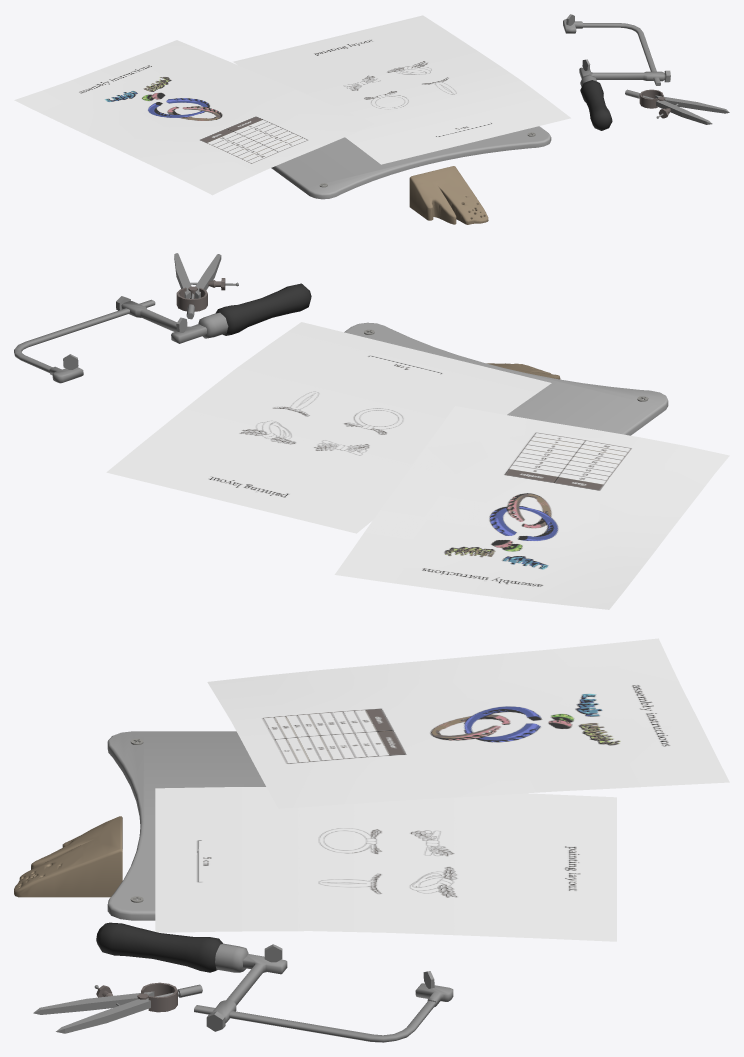
File: workbench-misc-processed.glb
The picture shows the model from 3 angles, top to bottom: view 1: azimuth 30°, elevation 25°; view 2: azimuth 150°, elevation 25°; view 3: azimuth 270°, elevation 25°; orthographic projection. The views are drawn at different scales.
Parts seen in each view (by area): view 1: obj.001; view 2: obj.001; view 3: obj.001.
Part boxes in pixels (x1=…): obj.001: x1=14, y1=14, x2=729, y2=224; obj.001: x1=14, y1=253, x2=729, y2=609; obj.001: x1=14, y1=638, x2=729, y2=1042.
Bounding box in the file's own units: 38.25 × 4 × 28.33.
1 material, 1 textured.
